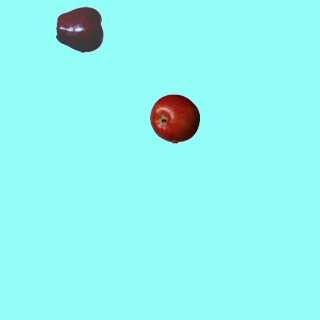Apple Braeburn: (149, 93, 199, 143)
Apple Red Delicious: (55, 4, 105, 54)
